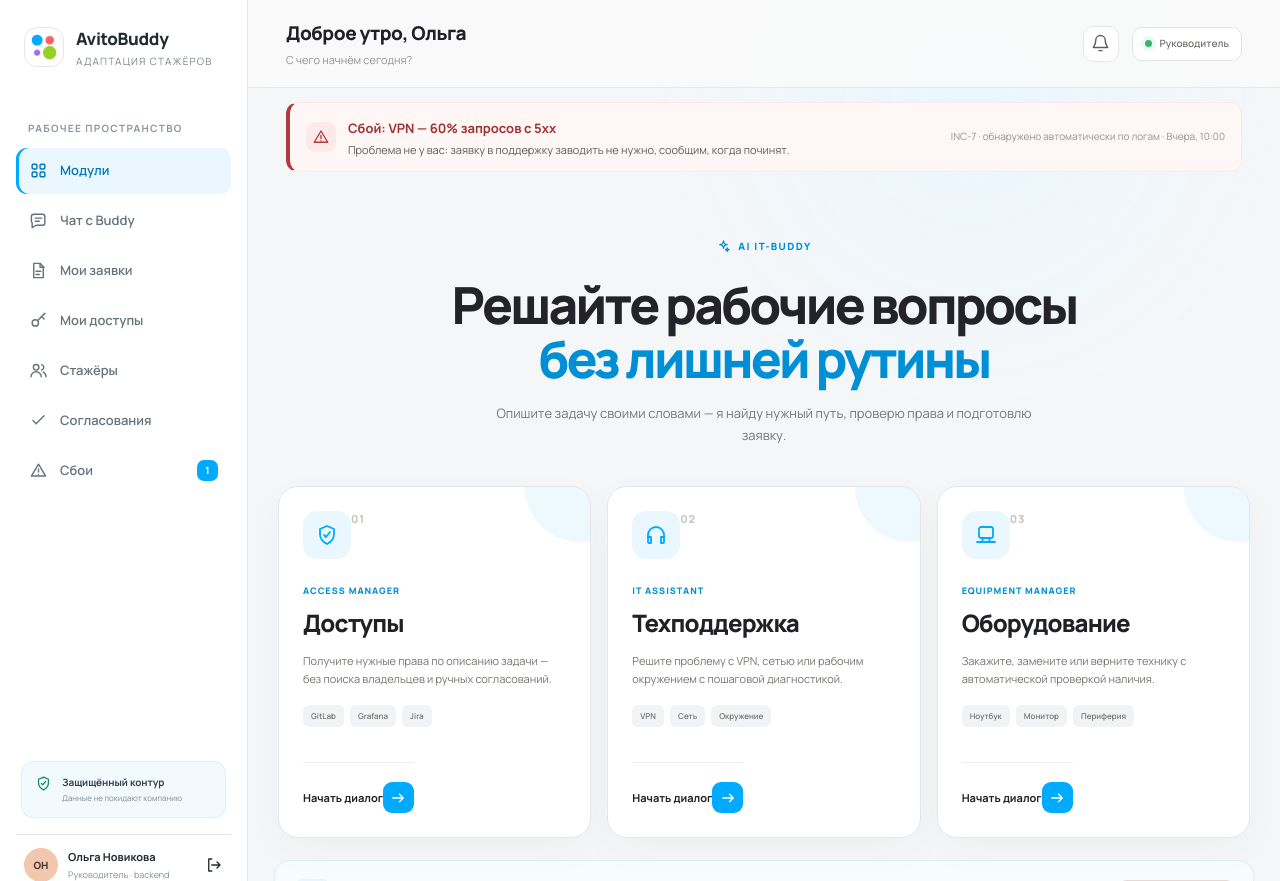
SRE и руководитель › руководитель видит и стажеров, и сбои; инцидент от радара подписан
The image size is (1280, 881).
Expected: the button "Стажёры" is shown, [16,348,231,394]
Click the button "Сбои 1": (124, 470) [16,448,231,494]
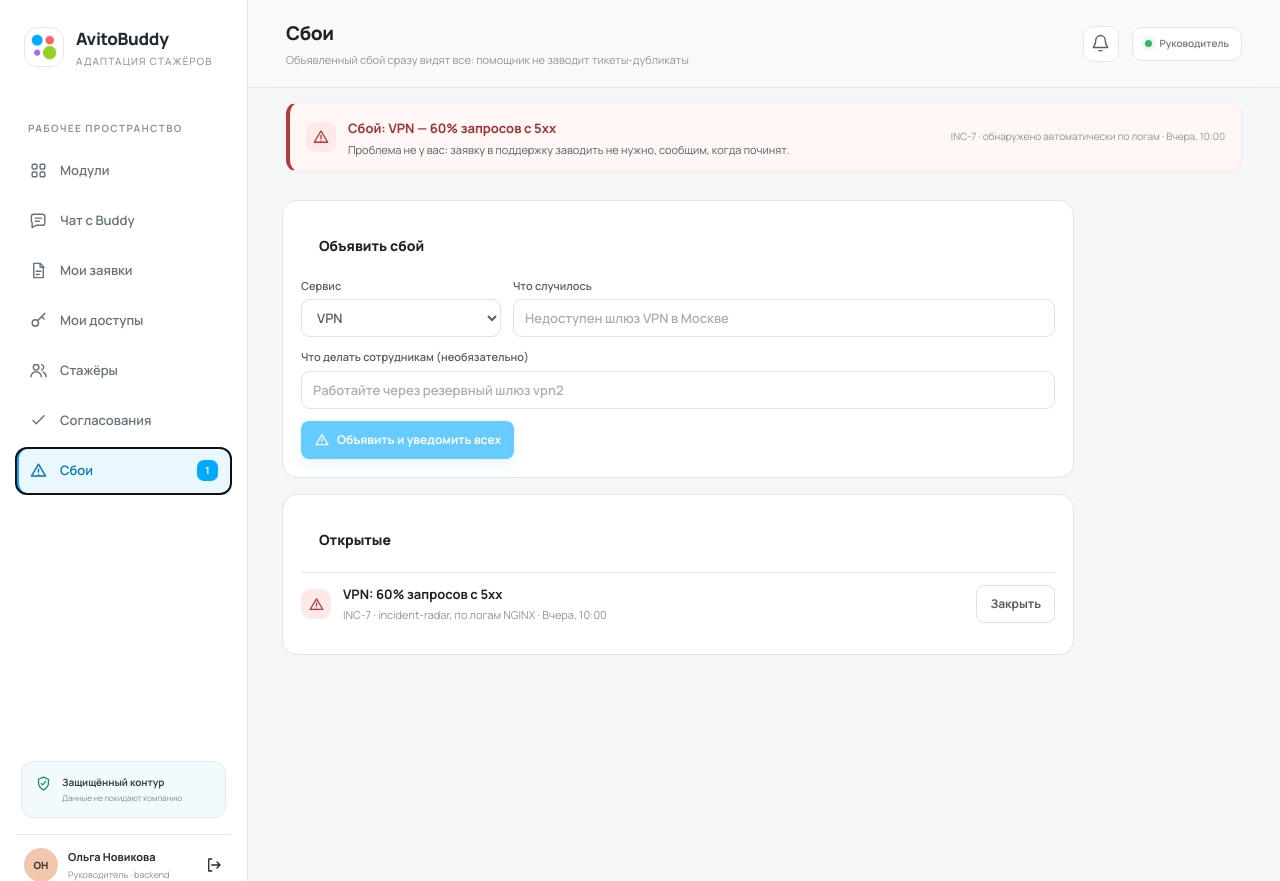
Expected: the text "INC-7 · incident-radar, по логам NGINX · Вчера, 10:00" is shown, [343,607,607,622]
